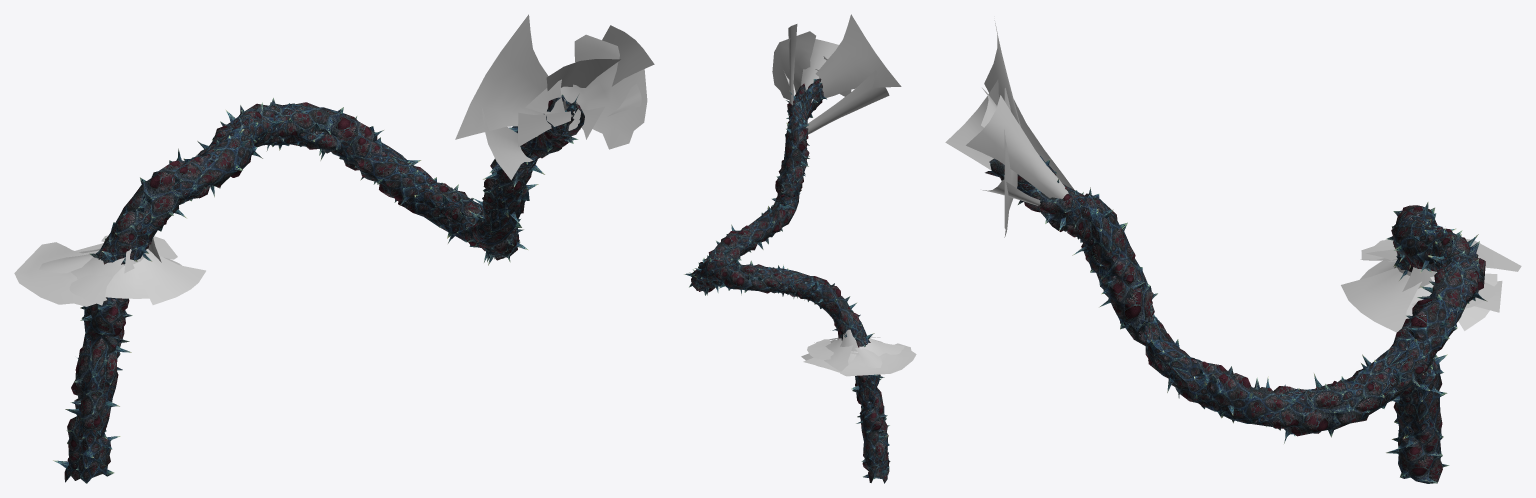
Rendered from L03_Heltree14.fbx.
3 renders of one model, left to right at view 1: azimuth 30°, elevation 25°; view 2: azimuth 150°, elevation 25°; view 3: azimuth 270°, elevation 25°, orthographic. The views are drawn at different scales.
Visible parts, largest first — view 1: LODGroup_3_MainMesh_1_SubMesh_1, LODGroup_3_MainMesh_2_SubMesh_1, LODGroup_3_MainMesh_2_SubMesh_2; view 2: LODGroup_3_MainMesh_1_SubMesh_1, LODGroup_3_MainMesh_2_SubMesh_1, LODGroup_3_MainMesh_2_SubMesh_2; view 3: LODGroup_3_MainMesh_2_SubMesh_1, LODGroup_3_MainMesh_2_SubMesh_2, LODGroup_3_MainMesh_1_SubMesh_1.
Part boxes in pixels (x1,y1,x2,y2): LODGroup_3_MainMesh_1_SubMesh_1: (14, 14, 654, 306); LODGroup_3_MainMesh_2_SubMesh_1: (53, 95, 584, 468); LODGroup_3_MainMesh_2_SubMesh_2: (64, 94, 577, 483); LODGroup_3_MainMesh_1_SubMesh_1: (772, 14, 916, 376); LODGroup_3_MainMesh_2_SubMesh_1: (684, 91, 889, 482); LODGroup_3_MainMesh_2_SubMesh_2: (691, 78, 890, 483); LODGroup_3_MainMesh_2_SubMesh_1: (985, 158, 1487, 483); LODGroup_3_MainMesh_2_SubMesh_2: (1040, 155, 1475, 478); LODGroup_3_MainMesh_1_SubMesh_1: (945, 20, 1521, 332).
Bounding box in the file's own units: 1619 × 2050 × 1803.
